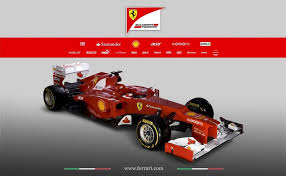f1_car: (39, 59, 249, 166)
